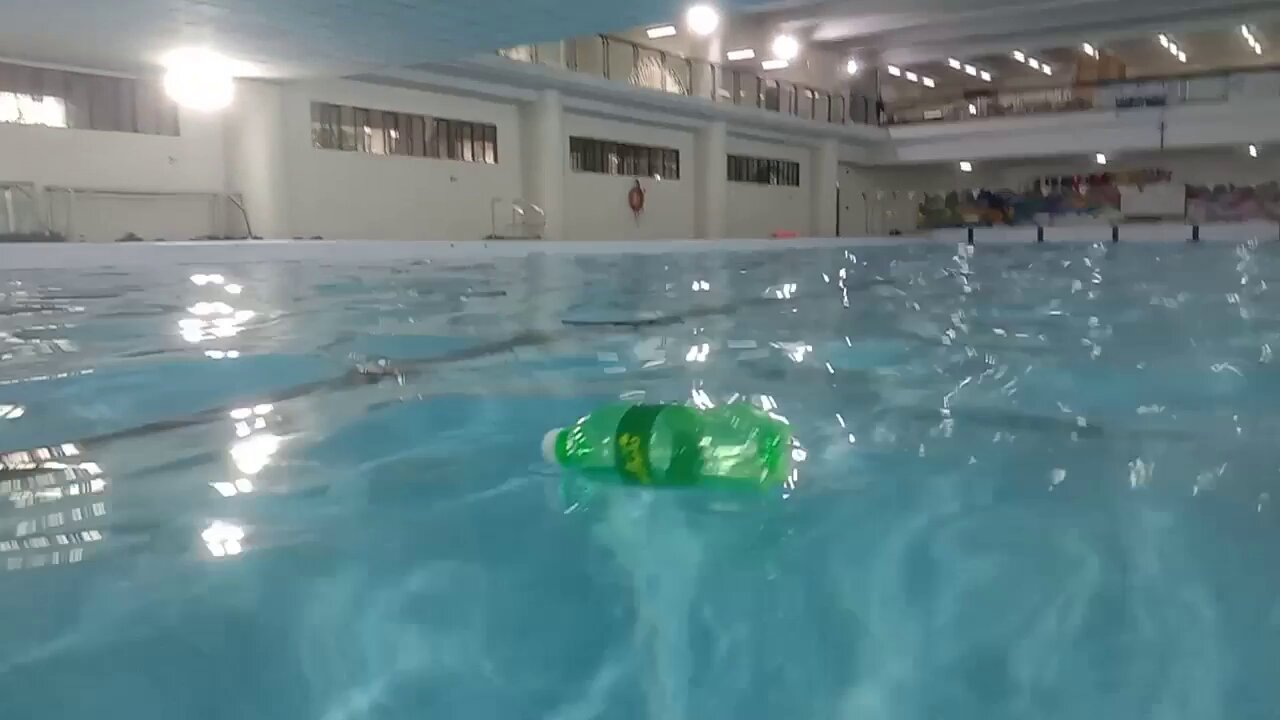plastic_bottle: (540, 403, 795, 497)
